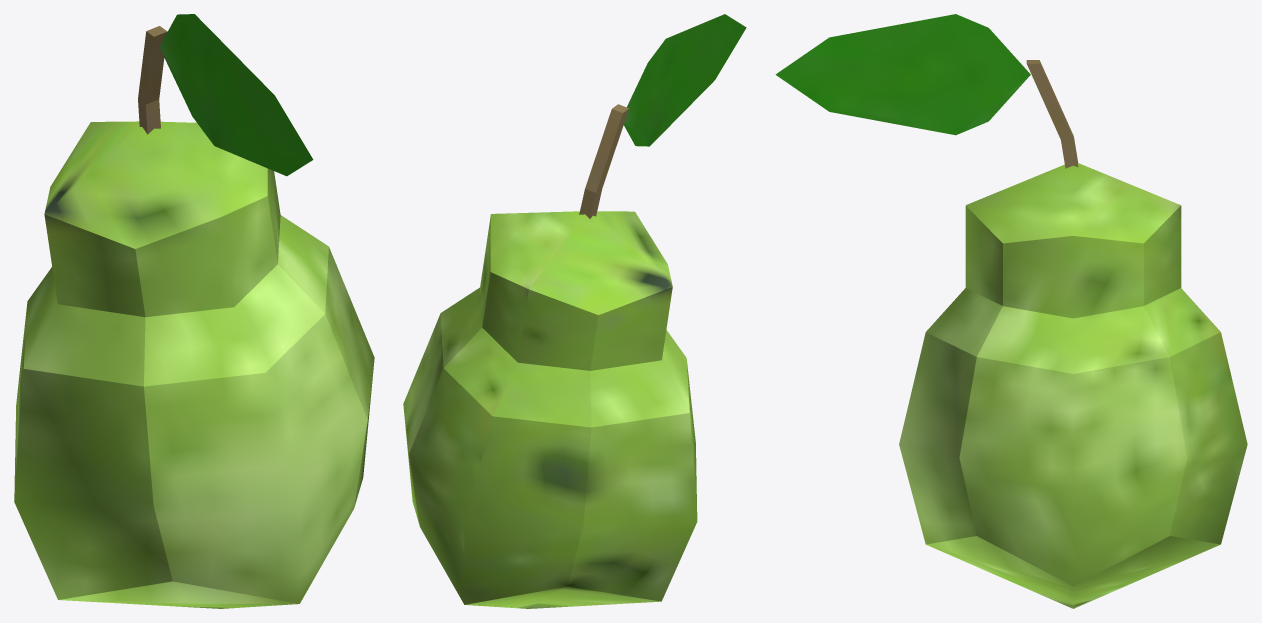
Rendered from Pear.fbx.
3 renders of one model, left to right at view 1: azimuth 30°, elevation 25°; view 2: azimuth 150°, elevation 25°; view 3: azimuth 270°, elevation 25°, orthographic. The views are drawn at different scales.
Visible parts, largest first — view 1: pCube28; view 2: pCube28; view 3: pCube28.
Boxes of the visible parts, <box> form: pCube28: <box>14,14,374,608</box>; pCube28: <box>403,14,746,608</box>; pCube28: <box>775,14,1247,608</box>.
Bounding box in the file's own units: 19.81 × 35.22 × 27.14.
1 material, 1 textured.
